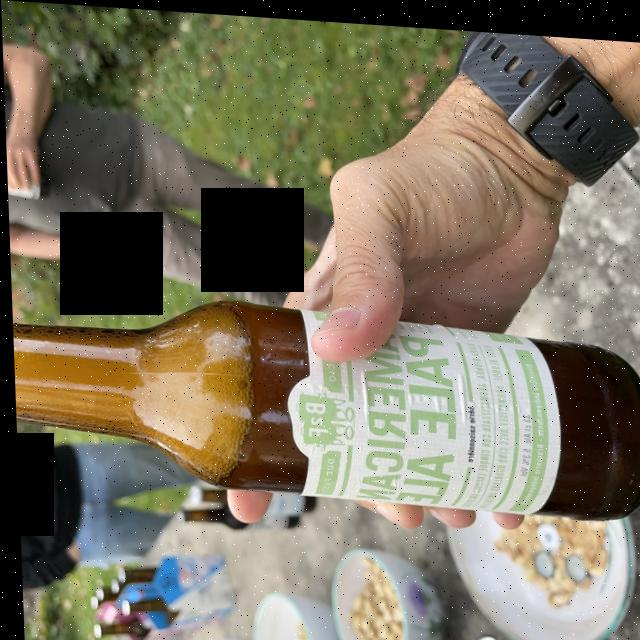beer: (10, 304, 636, 511)
